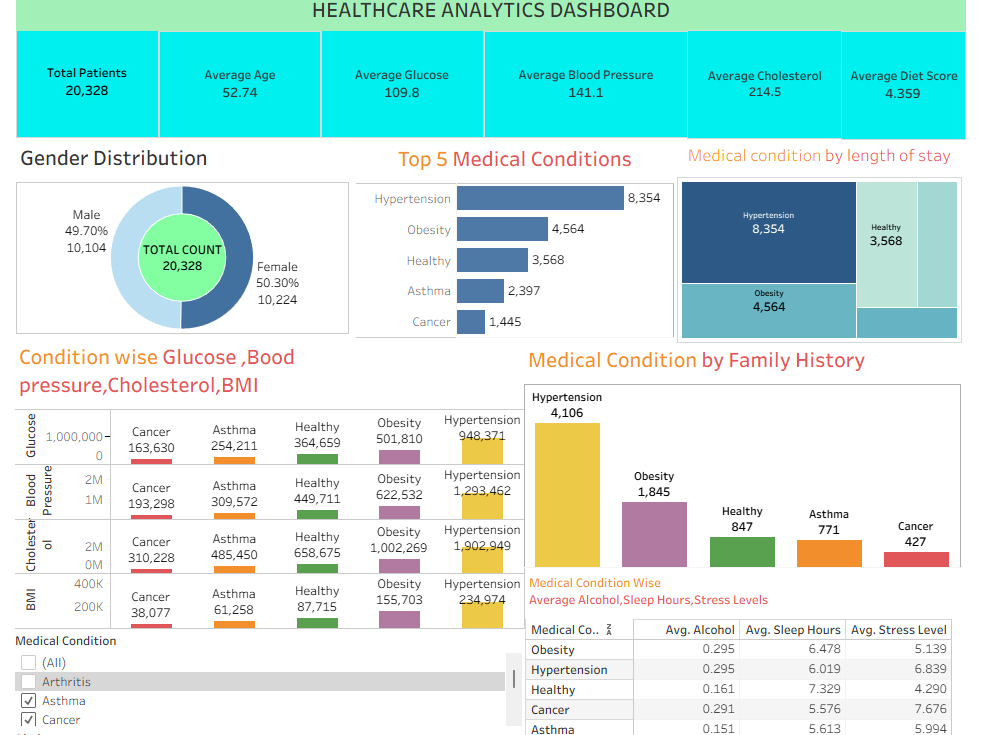

This screenshot's page, from the dashboard's own definition file:
{"tool":"tableau","page":{"name":"HEALTH CARE ANALYTICS DASHBOARD","canvas":[1000,800],"ordinal":0},"visuals":[{"type":"worksheet","title":"Sheet 5","mark":"Automatic","box":[8,30,950,76]},{"type":"worksheet","title":"TP_C","mark":"Automatic","box":[8,51,143,126]},{"type":"worksheet","title":"AvgGLU_C","mark":"Automatic","box":[313,69,163,108]},{"type":"worksheet","title":"Sheet 12","mark":"Automatic","box":[679,69,156,109]},{"type":"worksheet","title":"AG_C","mark":"Automatic","box":[151,70,162,107]},{"type":"worksheet","title":"ABP_C","mark":"Automatic","box":[476,70,205,107]},{"type":"worksheet","title":"Sheet 13","mark":"Automatic","box":[833,70,125,109]},{"type":"worksheet","title":"Sheet 6","mark":"Pie","rows":["Calculation_622622716606611466","Calculation_622622716606627853"],"box":[8,178,333,195]},{"type":"worksheet","title":"Sheet 8","mark":"Automatic","box":[669,178,286,204]},{"type":"worksheet","title":"Sheet 7","mark":"Automatic","rows":["Medical Condition"],"cols":["Transformed!Data_15735EFA2D0E4AFD9C69F4F25FA8EAC7"],"box":[348,179,318,198]},{"type":"worksheet","title":"Sheet 10","mark":"Automatic","rows":["Glucose","Blood Pressure","Cholesterol","BMI"],"cols":["Medical Condition"],"box":[7,377,510,291]},{"type":"worksheet","title":"Sheet 11","mark":"Automatic","rows":["Family History"],"cols":["Medical Condition"],"box":[516,380,437,227]},{"type":"worksheet","title":"Sheet 14","mark":"Automatic","rows":["Medical Condition"],"box":[517,609,437,185]}]}

Visuals, with their boxes on the page's 1000x800 design canvas (x1, y1, x2, y2). These are canvas units, not pixel positions in the 983x735 screenshot, which may show the page scaled, cropped or inside an application window:
"Sheet 5" worksheet: 8 30 958 106
"TP_C" worksheet: 8 51 151 177
"AvgGLU_C" worksheet: 313 69 476 177
"Sheet 12" worksheet: 679 69 835 178
"AG_C" worksheet: 151 70 313 177
"ABP_C" worksheet: 476 70 681 177
"Sheet 13" worksheet: 833 70 958 179
"Sheet 6" worksheet (Pie marks): 8 178 341 373
"Sheet 8" worksheet: 669 178 955 382
"Sheet 7" worksheet: 348 179 666 377
"Sheet 10" worksheet: 7 377 517 668
"Sheet 11" worksheet: 516 380 953 607
"Sheet 14" worksheet: 517 609 954 794
